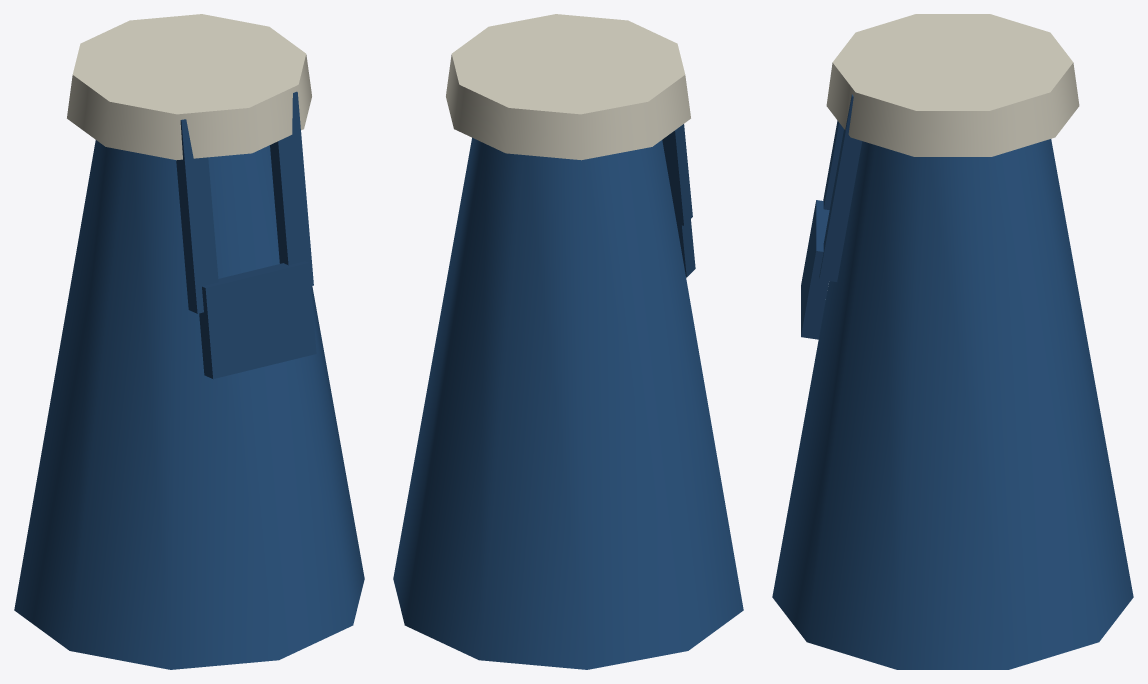
The model's file is cat-coat-3.glb.
3 renders of one model, left to right at view 1: azimuth 30°, elevation 25°; view 2: azimuth 150°, elevation 25°; view 3: azimuth 270°, elevation 25°, orthographic.
Parts seen in each view (by area): view 1: 00_#2c5a8a_r320, 02_#d8d4c4_r110, 01_#244a72_noshadow_r110; view 2: 00_#2c5a8a_r320, 02_#d8d4c4_r110, 01_#244a72_noshadow_r110; view 3: 00_#2c5a8a_r320, 02_#d8d4c4_r110, 01_#244a72_noshadow_r110.
Boxes of the visible parts, x1=… form: 00_#2c5a8a_r320: x1=14, y1=140, x2=364, y2=669; 02_#d8d4c4_r110: x1=67, y1=14, x2=311, y2=160; 01_#244a72_noshadow_r110: x1=176, y1=91, x2=316, y2=378; 00_#2c5a8a_r320: x1=393, y1=137, x2=743, y2=669; 02_#d8d4c4_r110: x1=446, y1=14, x2=690, y2=160; 01_#244a72_noshadow_r110: x1=662, y1=124, x2=695, y2=277; 00_#2c5a8a_r320: x1=772, y1=139, x2=1133, y2=669; 02_#d8d4c4_r110: x1=826, y1=14, x2=1079, y2=156; 01_#244a72_noshadow_r110: x1=801, y1=94, x2=862, y2=339.
Size of the model in its own units: 0.5706 by 0.98 by 0.6.
